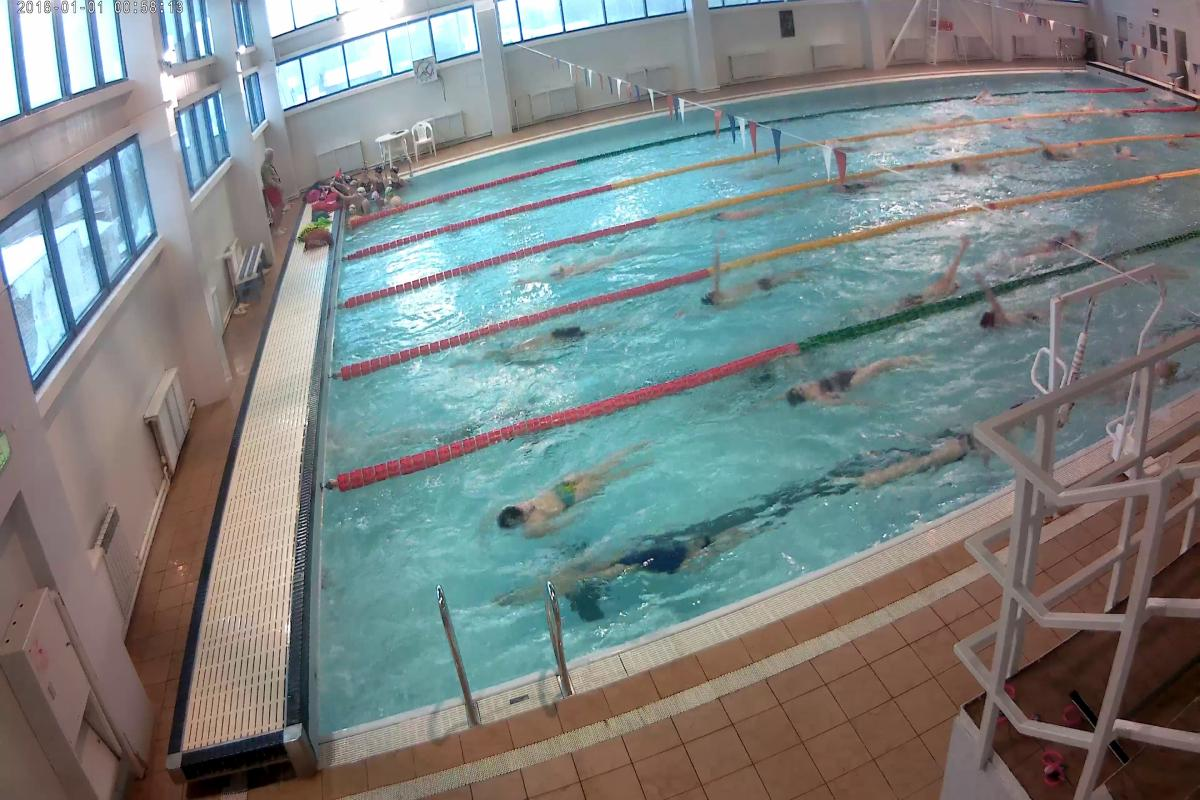swimmer: (530, 528, 746, 604), (502, 448, 652, 530), (780, 350, 934, 404), (860, 431, 989, 480), (868, 266, 970, 302), (973, 289, 1048, 332), (480, 327, 605, 352), (1012, 228, 1088, 266), (699, 276, 816, 299), (534, 258, 642, 279), (707, 202, 779, 226), (825, 174, 902, 196), (953, 159, 1002, 182), (1032, 145, 1068, 165)
